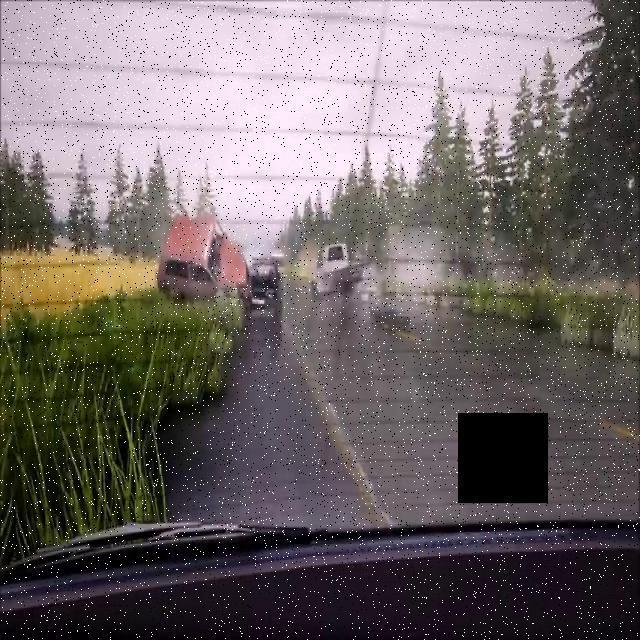multiple_accident: (133, 182, 291, 344), (294, 237, 387, 326)
